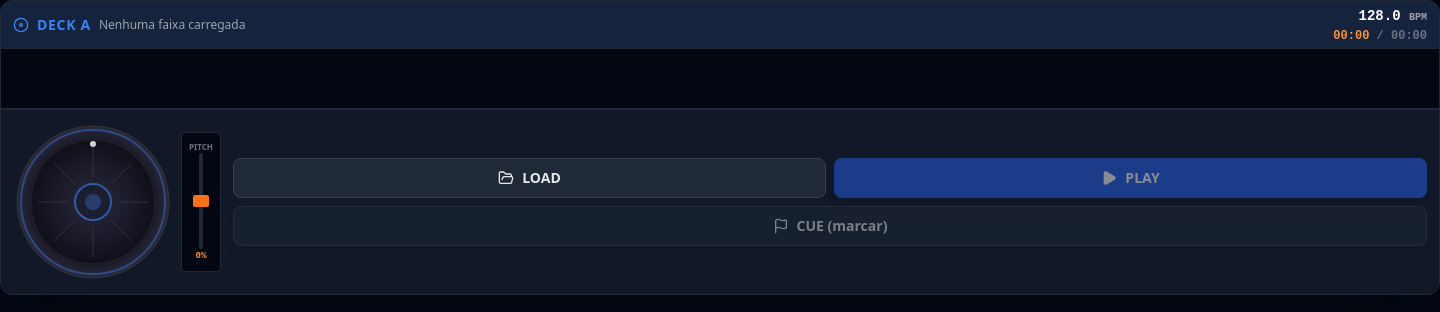
Test case: Deck Component › shows loading state when loading track
Click the button "LOAD": [530, 178] box [233, 158, 826, 198]
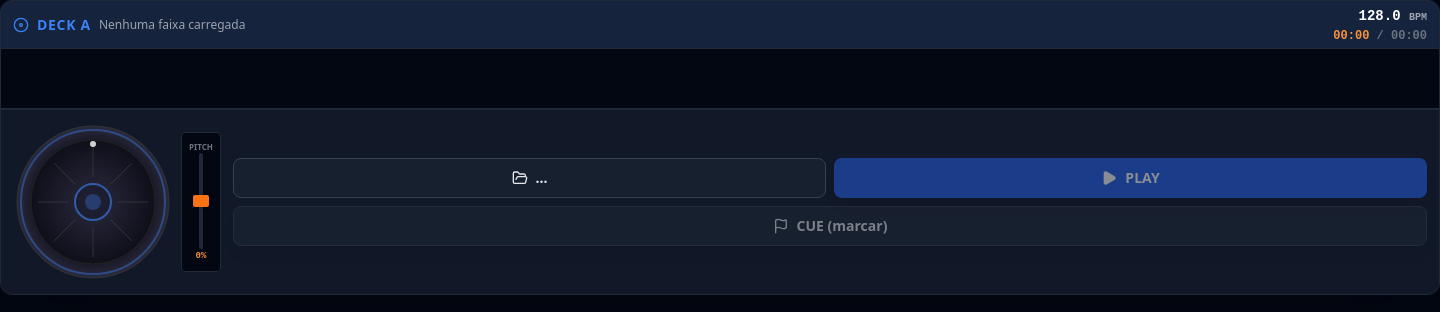
Check: the button "..." is shown, box [233, 158, 826, 198]
